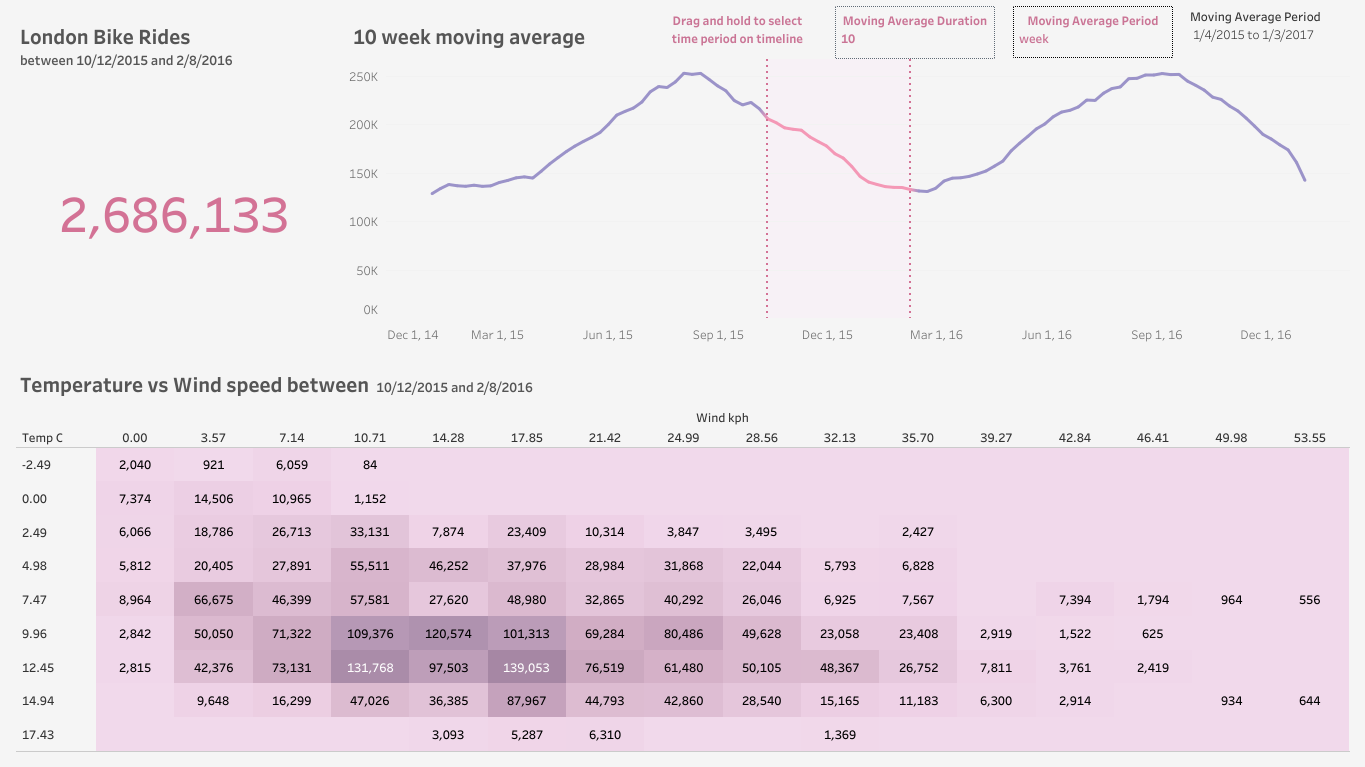

The dashboard page shown, as its layout file describes it:
{"tool":"tableau","page":{"name":"Dashboard 1","canvas":[1366,768],"ordinal":0},"visuals":[{"type":"parameter","param":"[Parameters].[Parameter 2]","box":[835,6,160,53]},{"type":"parameter","param":"[Parameters].[Parameter 1]","box":[1013,6,160,52]},{"type":"filter","title":"Moving Average","param":"[federated.0pyprev0zz6u1g1cnu9a611df99q].[none:Calculation_3229643902814519296:q","box":[1190,6,168,69]},{"type":"worksheet","title":"Total Rides","mark":"Automatic","box":[8,8,333,348]},{"type":"worksheet","title":"Moving Average","mark":"Automatic","rows":["Calculation1"],"cols":["Calculation_3229643902814519296"],"box":[341,8,1017,348]},{"type":"worksheet","title":"Heatmap","mark":"Square","rows":["temp real C (bin)"],"cols":["Wind Speed Kph (bin)"],"box":[8,356,1350,404]}]}

Visuals, with their boxes in screenshot pixels (x1, y1, x2, y2), scaled from the page's 1366x768 canvas onto the 1365x767 screenshot:
parameter: (834, 6, 994, 59)
parameter: (1012, 6, 1172, 58)
"Moving Average" filter: (1189, 6, 1357, 75)
"Total Rides" worksheet: (8, 8, 341, 356)
"Moving Average" worksheet: (341, 8, 1357, 356)
"Heatmap" worksheet (Square marks): (8, 356, 1357, 759)
